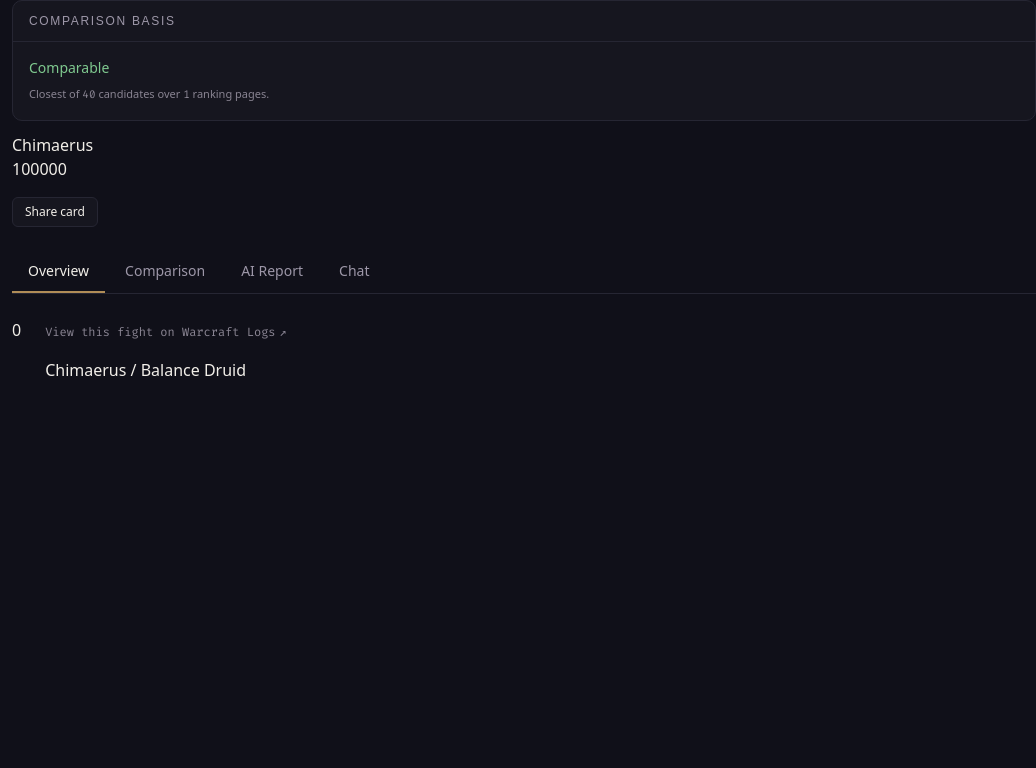
Test case: bossContentPanel › carte de partage › tient la carte repliée jusqu’au clic, puis la sort du résultat
expect the text "Against comparable logs" is not shown: met
Click the button "Share card" at (55, 212), box [12,196,98,226]
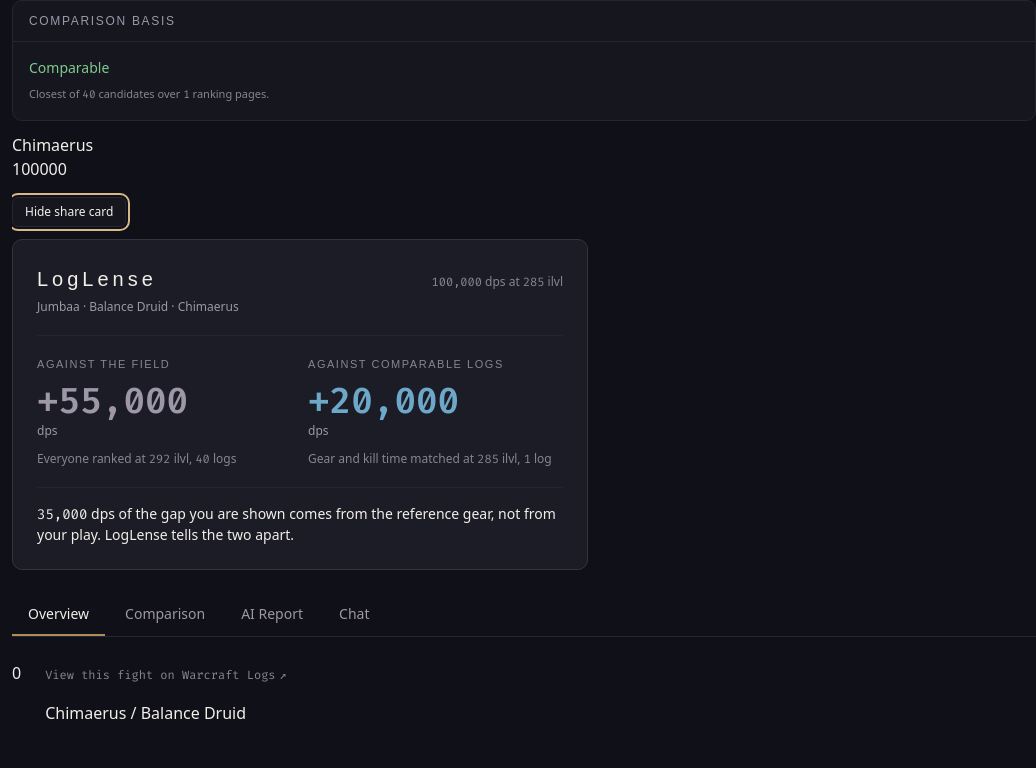
expect the text "Against the field" is shown: met, box [37,358,170,370]
expect the text "Against comparable logs" is shown: met, box [308,358,504,370]
